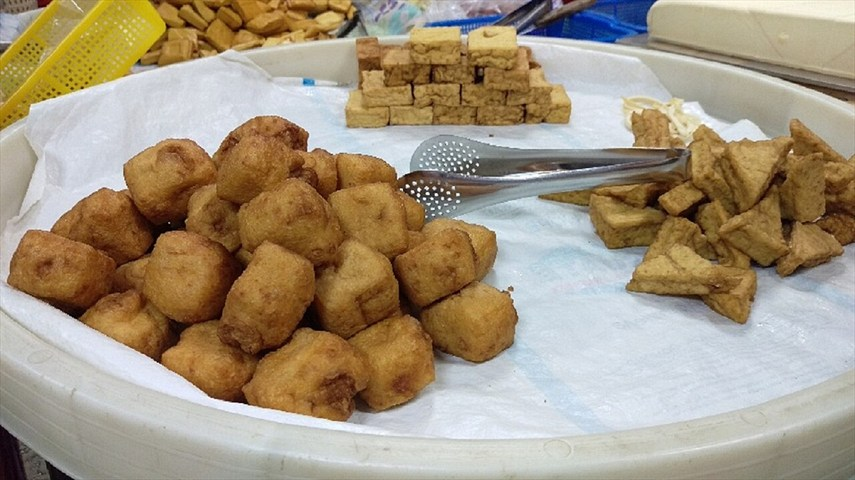Tahu Goreng: (66, 10, 799, 409)
